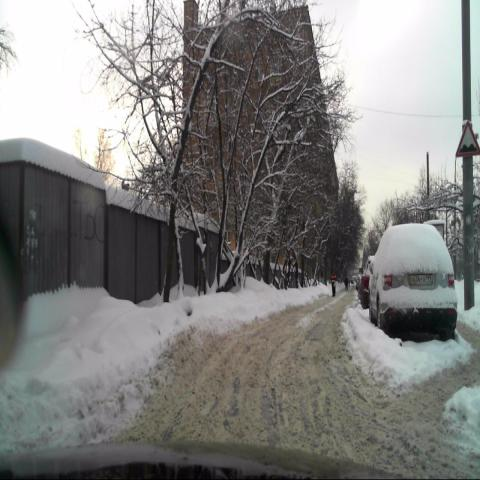1_16: (455, 120, 480, 157)
